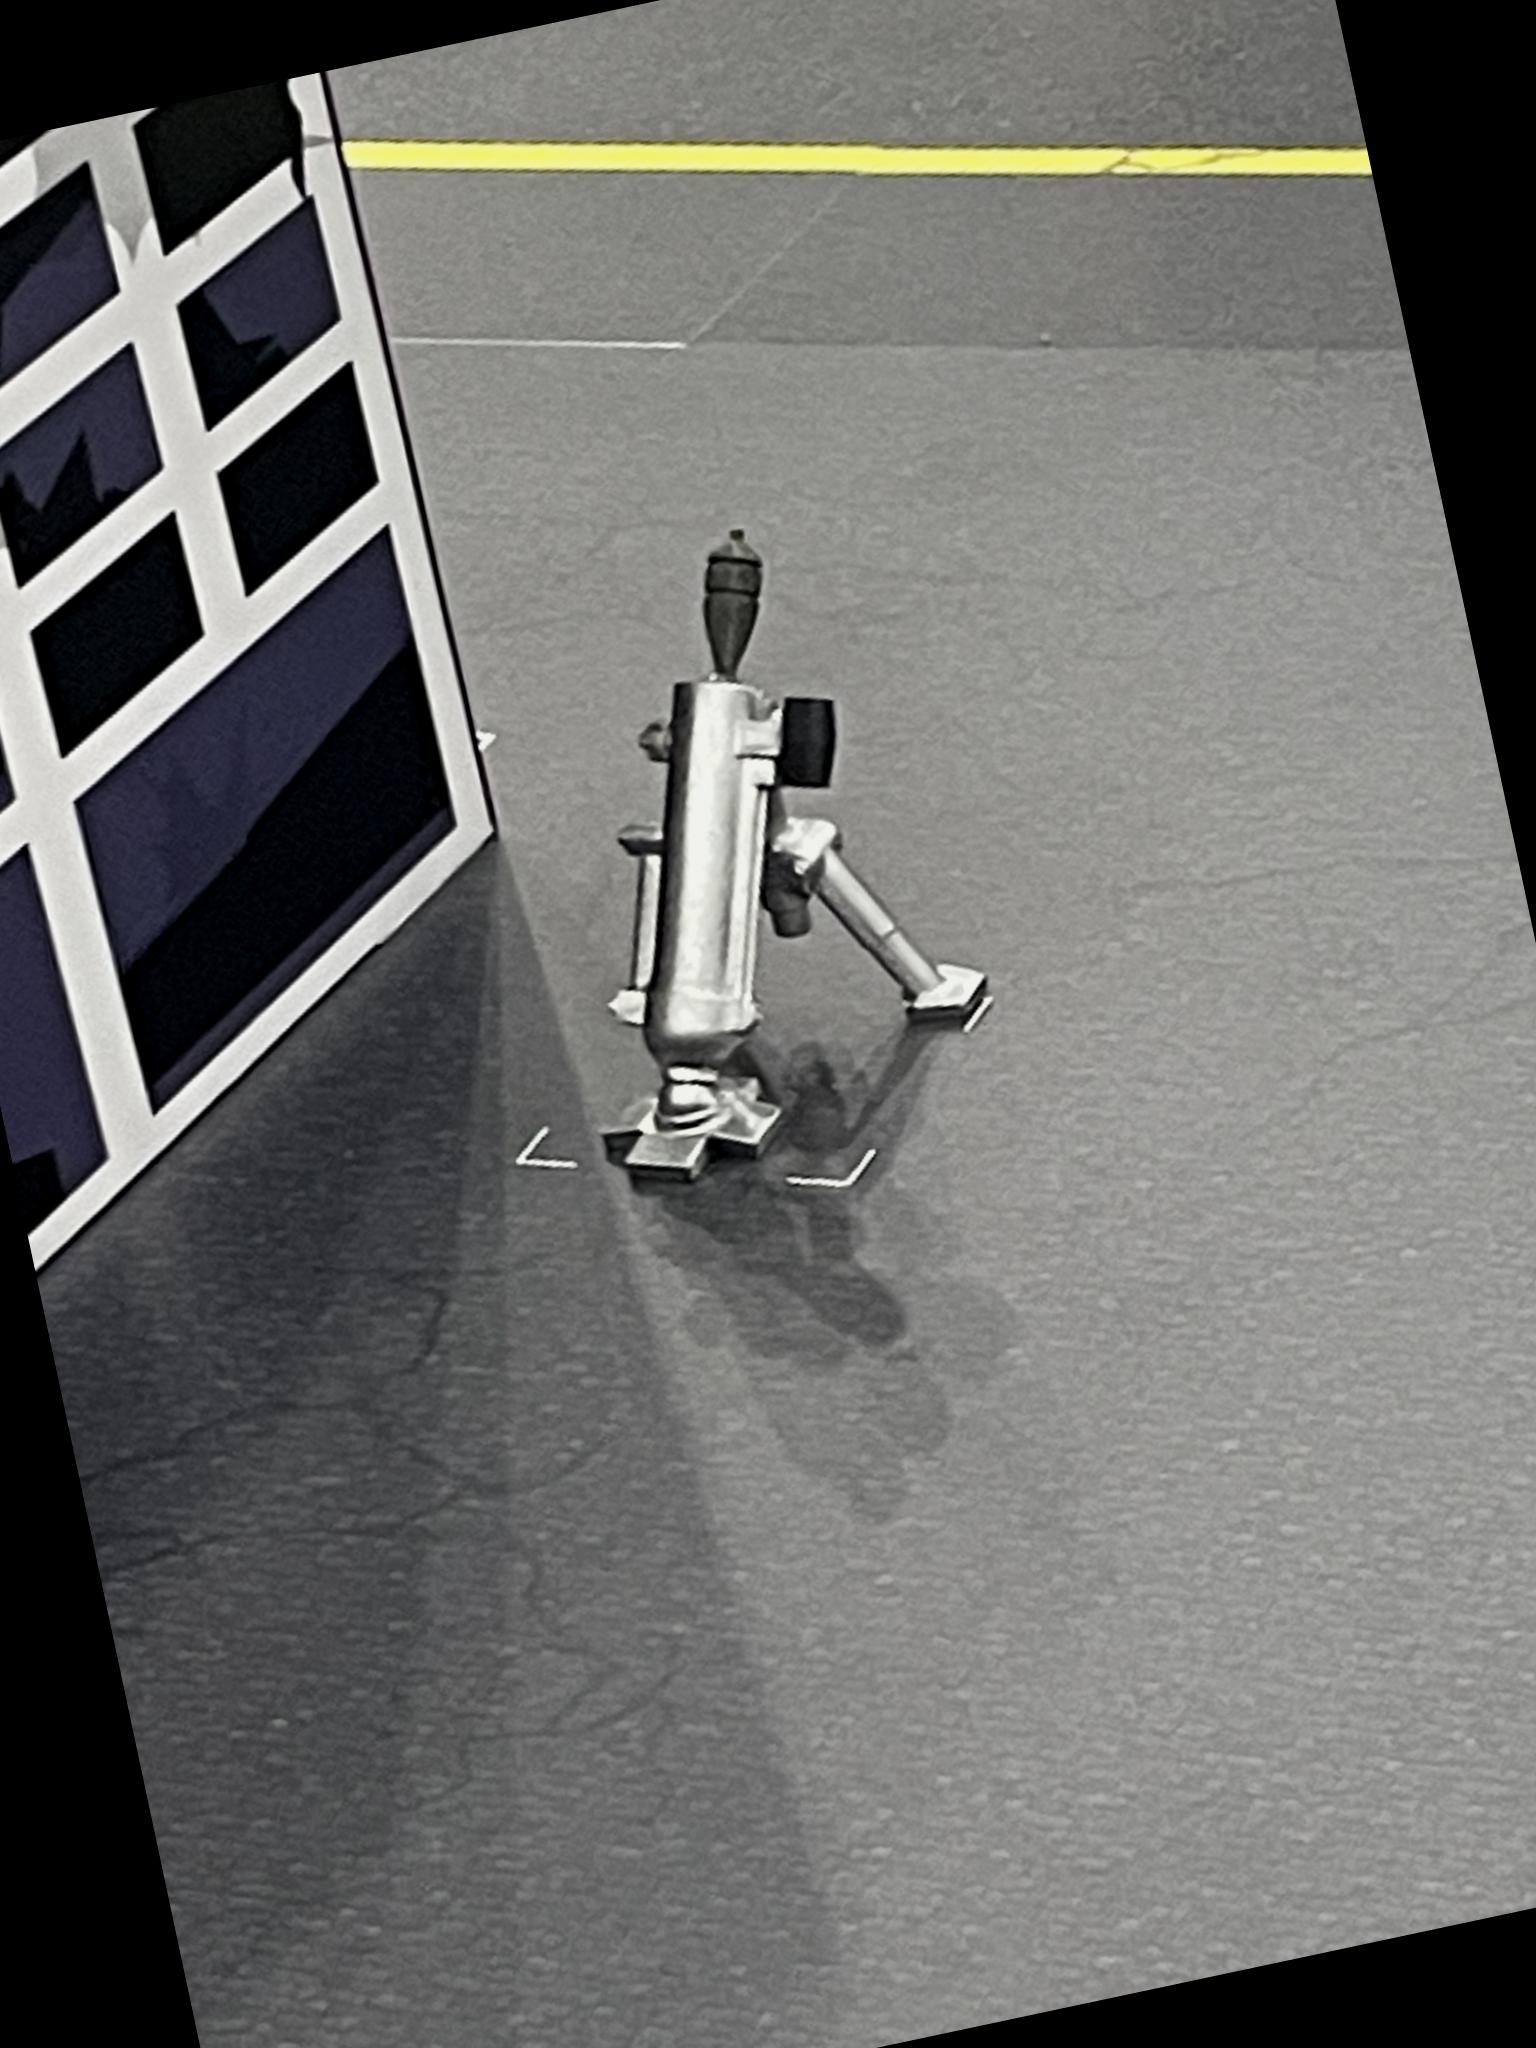Mortar: (470, 477, 1031, 1221)
